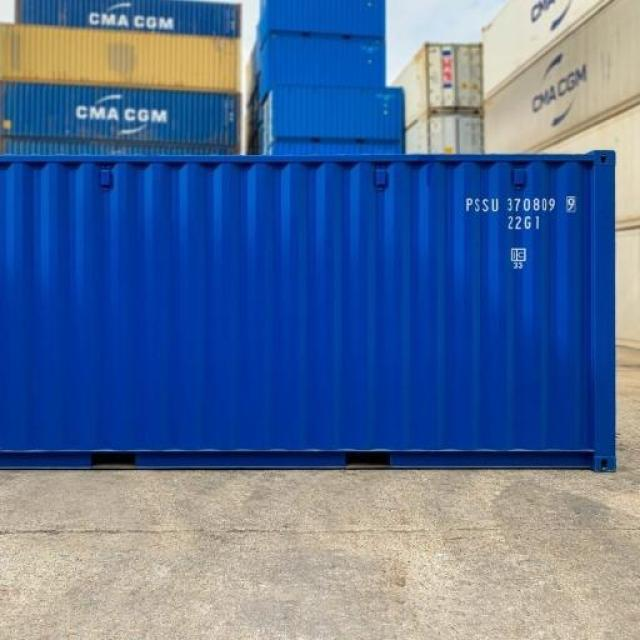ISO: (502, 218, 552, 232)
container_number: (466, 198, 576, 214)
